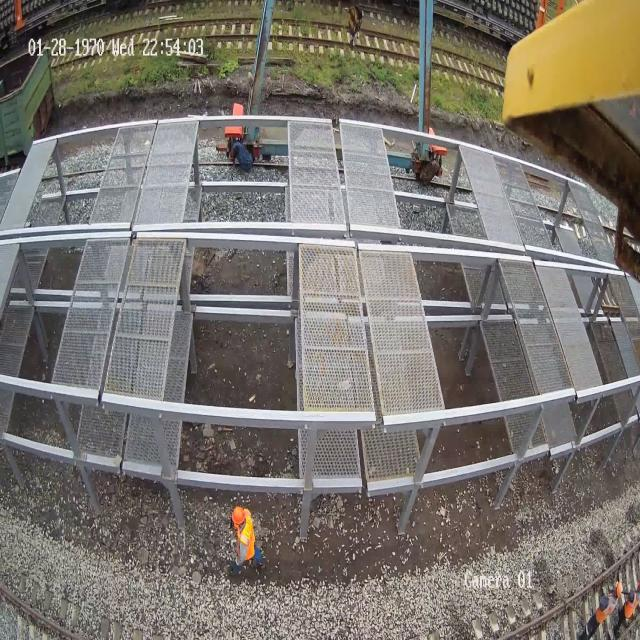Helmet: (232, 505, 245, 528), (616, 581, 622, 596)
Person: (579, 568, 640, 639), (230, 505, 264, 573)
